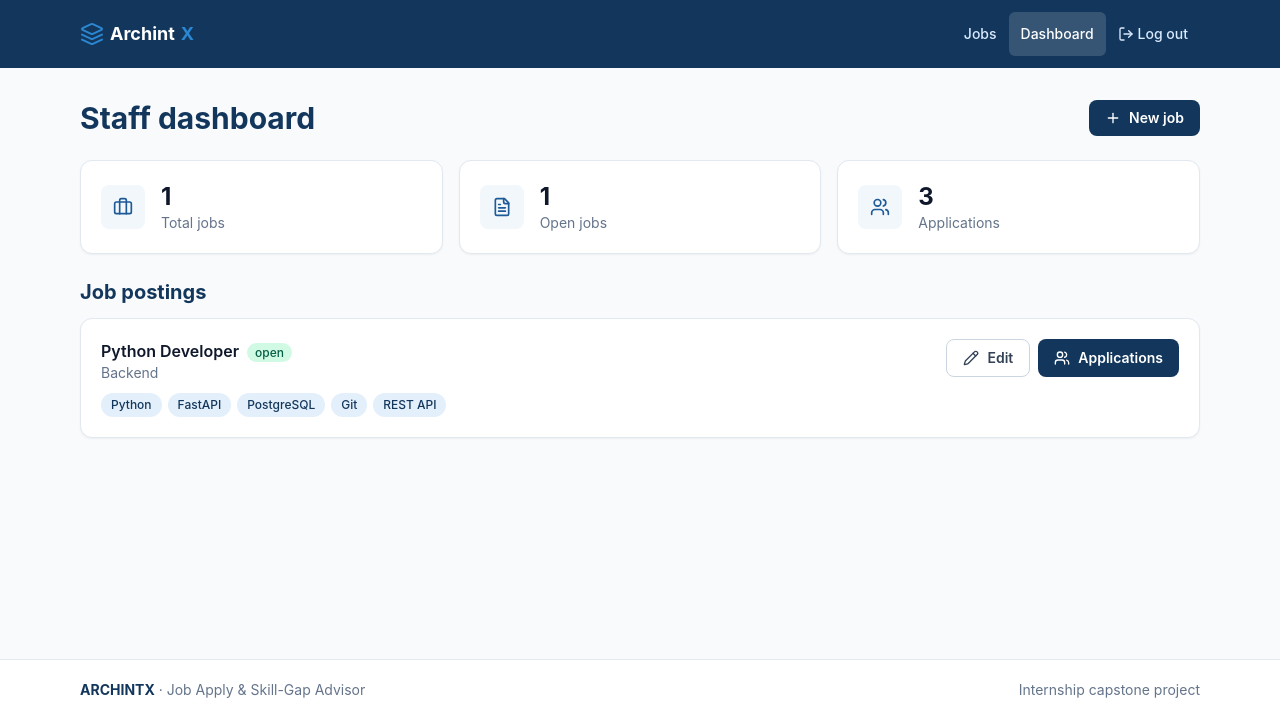
Scenario: applications list › scrolls the applications panel into view when a job is selected
What coordinates should you click on to do the following:
click the button with aria-label "view applications for"
I would click on:
 (1109, 358)
Its box is x1=1038 y1=339 x2=1179 y2=377.
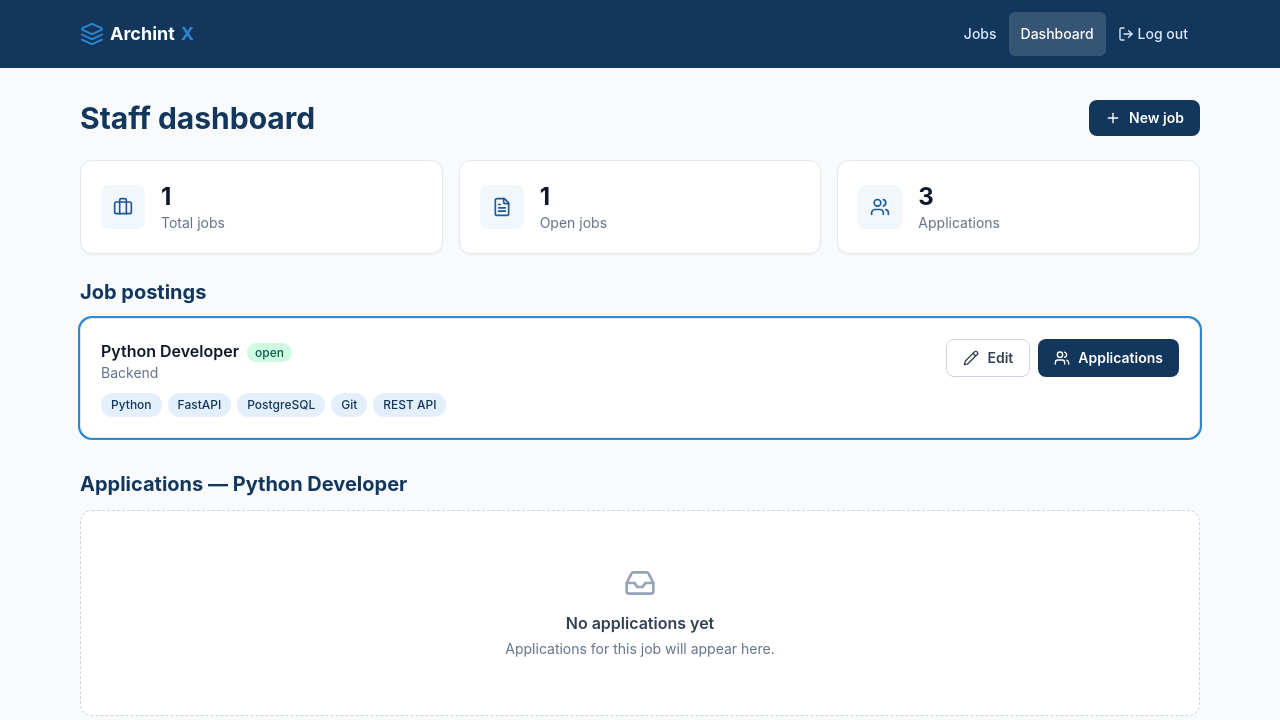
Expected: the heading "No applications yet" is shown, x1=566 y1=611 x2=714 y2=635
